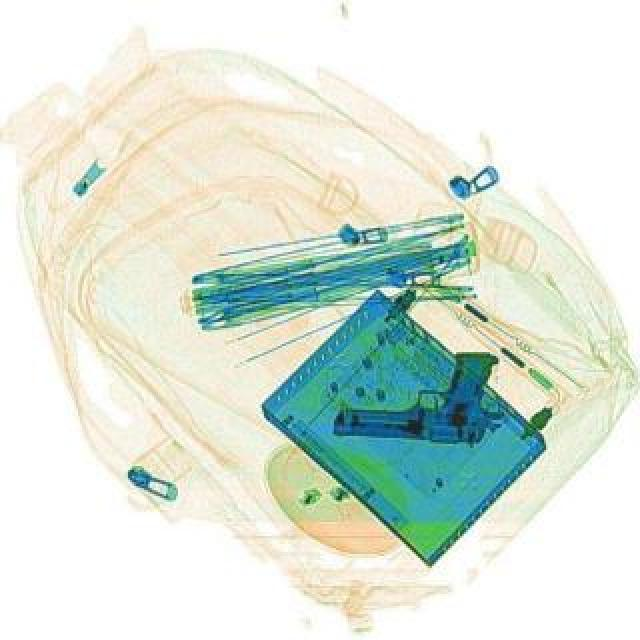gun: (334, 344, 512, 442)
